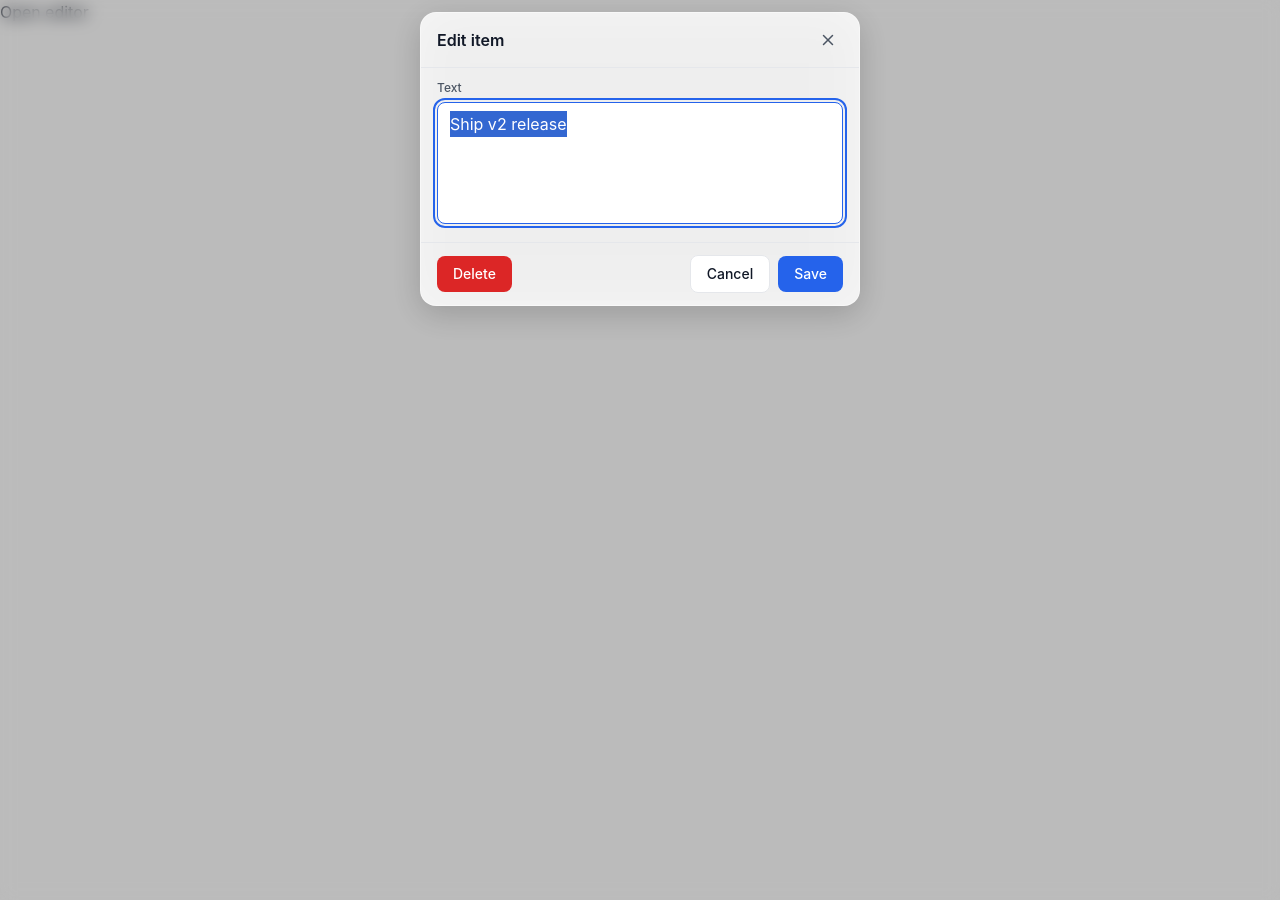
EditModal › returns focus to the opener when it unmounts (A11Y-022)
Click the button "Save".
click(811, 274)  # box 778,256 -> 843,292
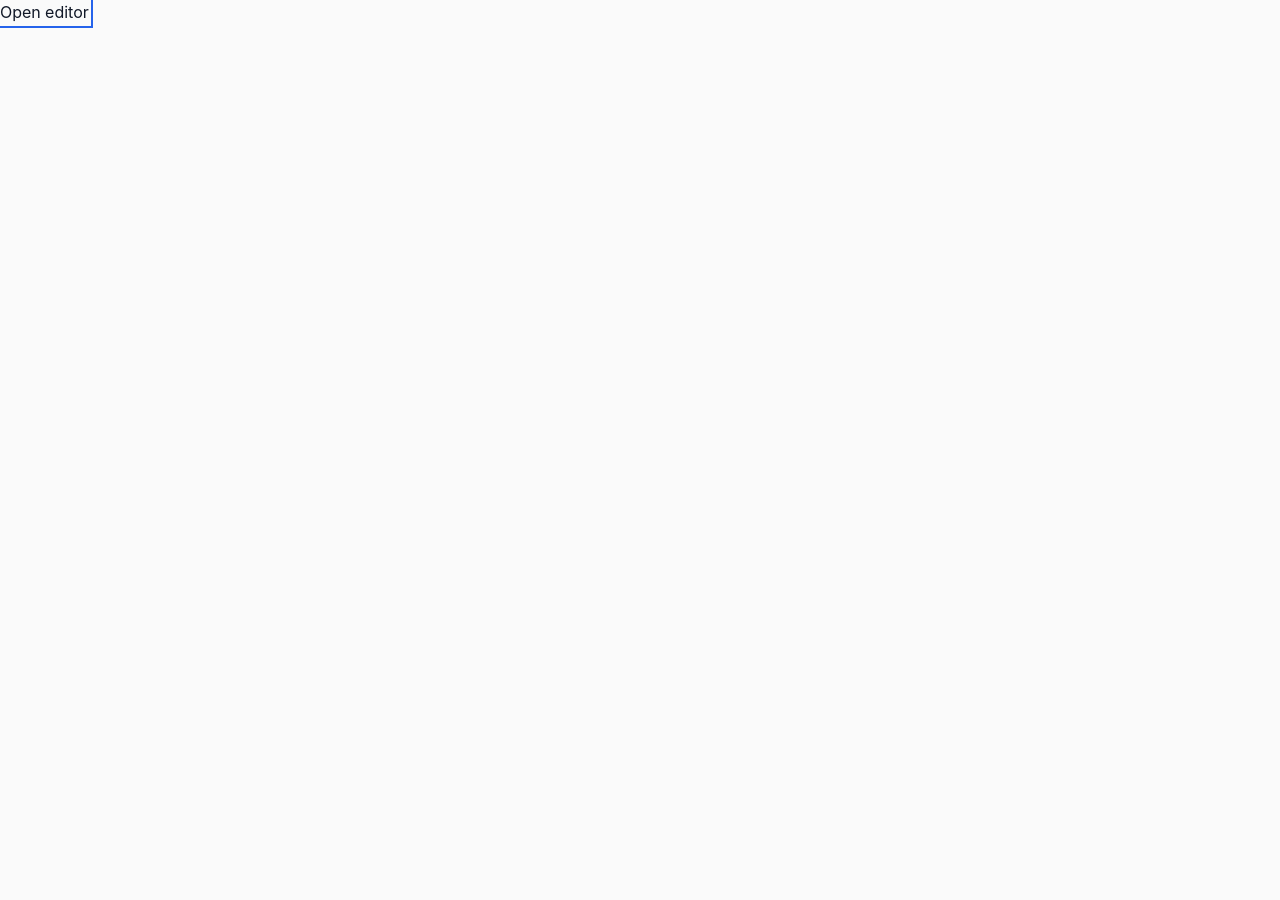
Check: the dialog is gone
